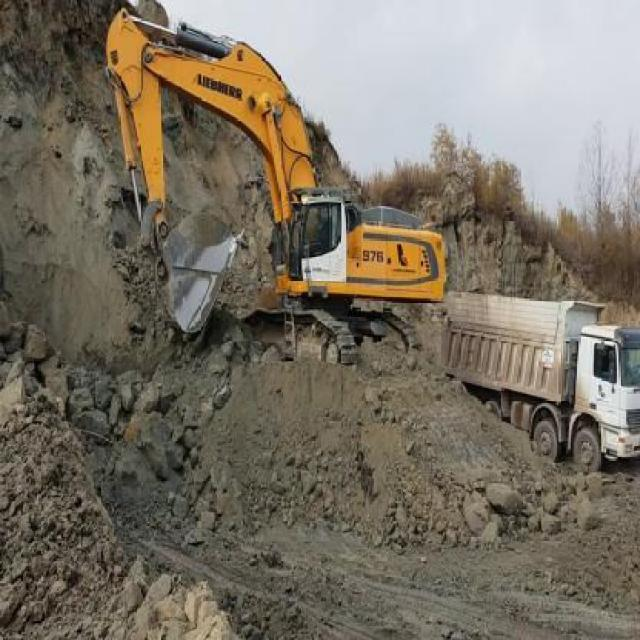Dump Truck: (439, 289, 639, 474)
Excavator: (102, 5, 446, 368)
